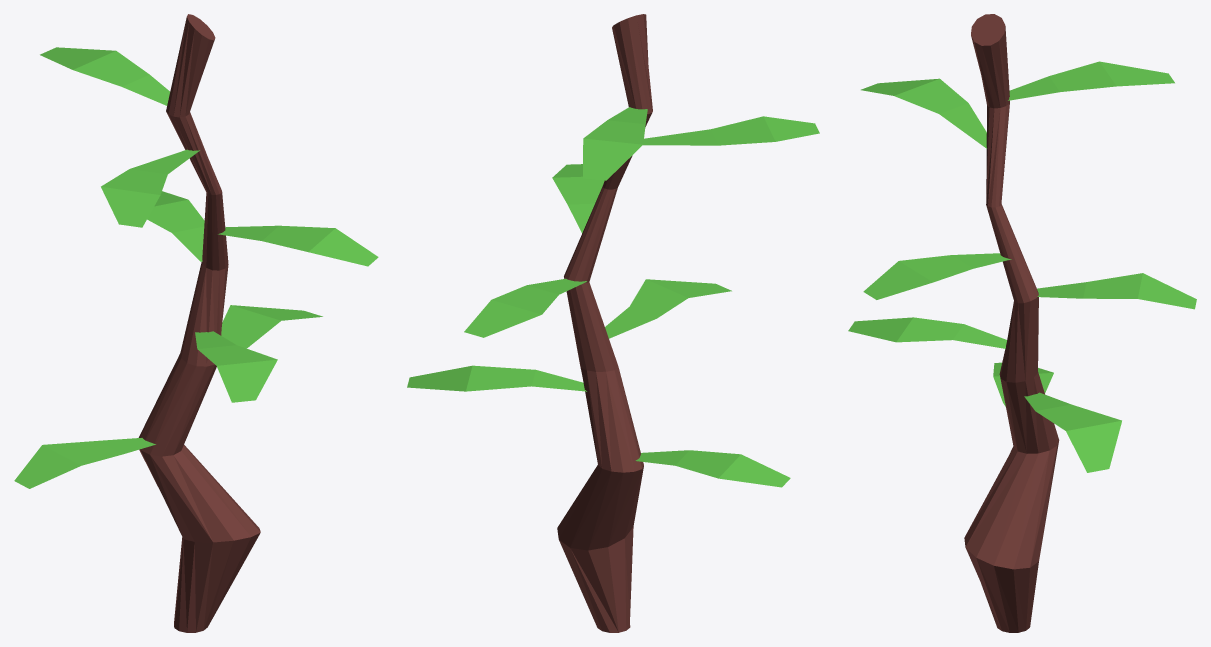
Rendered from tree_05.obj.
3 views of the same model, side by side, from view 1: azimuth 30°, elevation 25°; view 2: azimuth 150°, elevation 25°; view 3: azimuth 270°, elevation 25° (orthographic). The views are drawn at different scales.
Visible parts, largest first — view 1: tree_02_Cylinder; view 2: tree_02_Cylinder; view 3: tree_02_Cylinder.
Part boxes in pixels (<box>): tree_02_Cylinder: <box>14,14,378,632</box>; tree_02_Cylinder: <box>407,14,819,632</box>; tree_02_Cylinder: <box>848,14,1196,632</box>.
Size of the model in its own units: 4.65 by 7.98 by 4.17.
